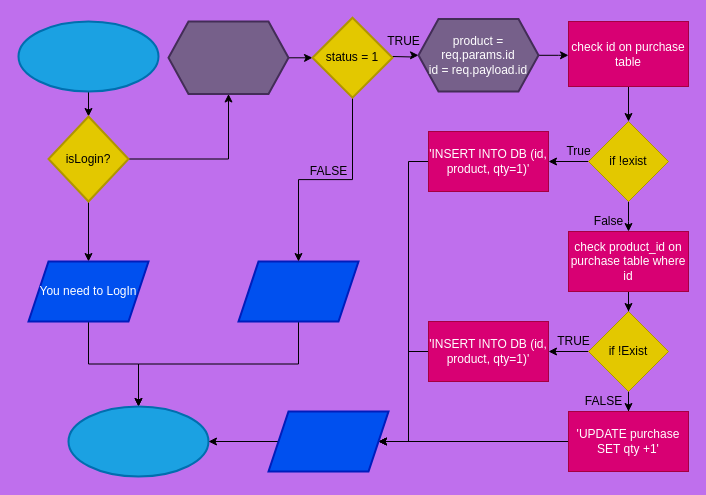
The diagram is 706 pixels wide and 495 high, and some of its shapes have lost their labels. Here are the shapes that lost their labels. From the top down, the centre of each, then its label:
At (x=88, y=56): "START".
At (x=228, y=57): "email = req.payload.email {rows: [data]} = DB WHERE email".
At (x=298, y=291): "Please Activate account via email".
At (x=138, y=441): "END".
At (x=328, y=441): "Data has been added".
